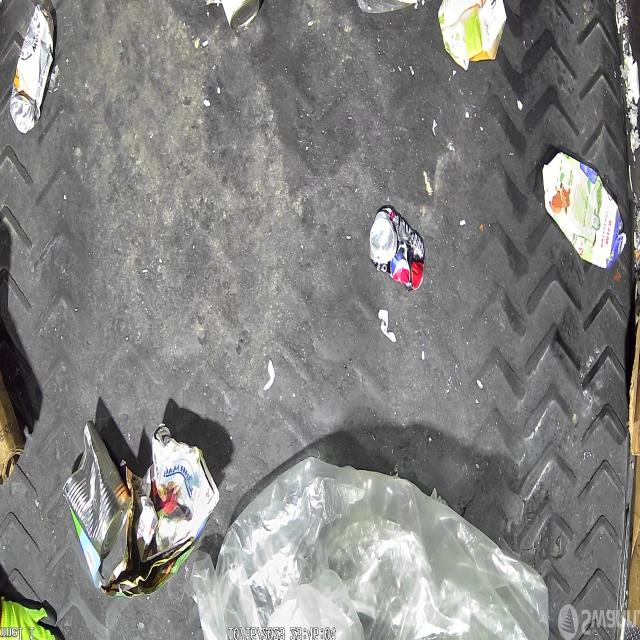can: (62, 424, 130, 564), (10, 2, 54, 134), (370, 206, 426, 292), (213, 0, 261, 29)
non_white_jug: (542, 152, 626, 270), (437, 0, 507, 72)
plastic_bottle: (342, 0, 450, 14)
